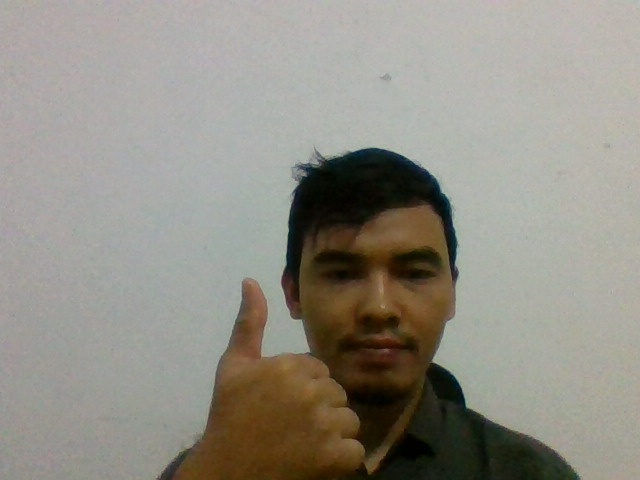hello: (203, 276, 379, 478)
